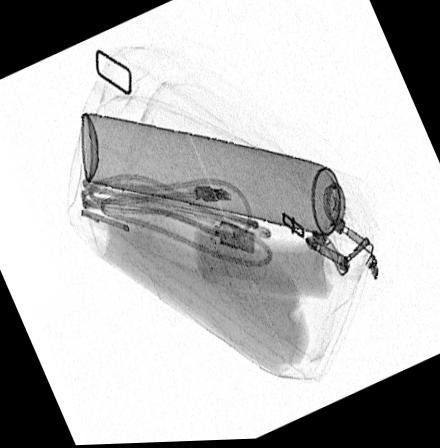Sprayer: (80, 112, 379, 248)
